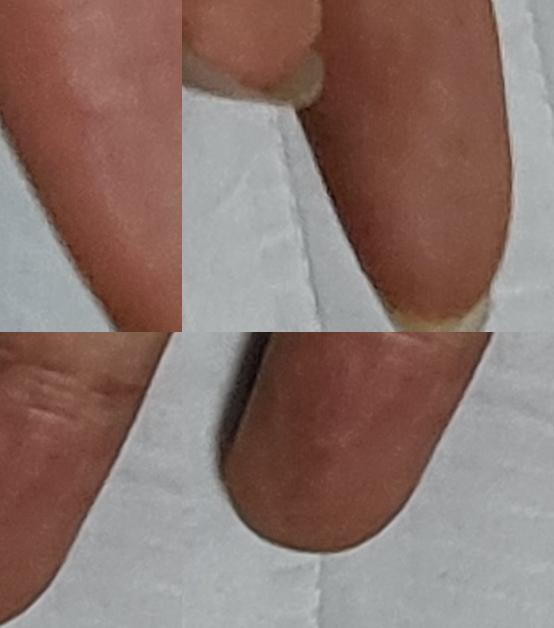Fingerprints: (297, 0, 515, 327), (221, 332, 491, 552), (0, 393, 145, 626)
